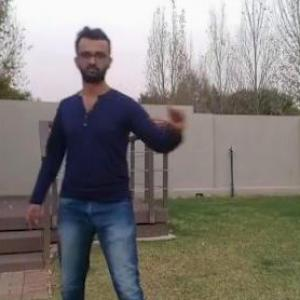land_hand: (147, 84, 191, 132)
